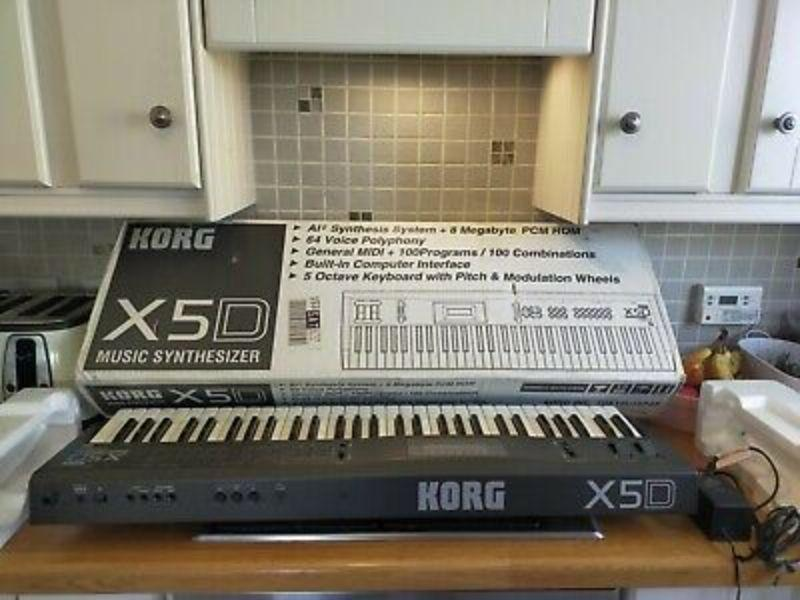synthesizer: (26, 397, 704, 529)
